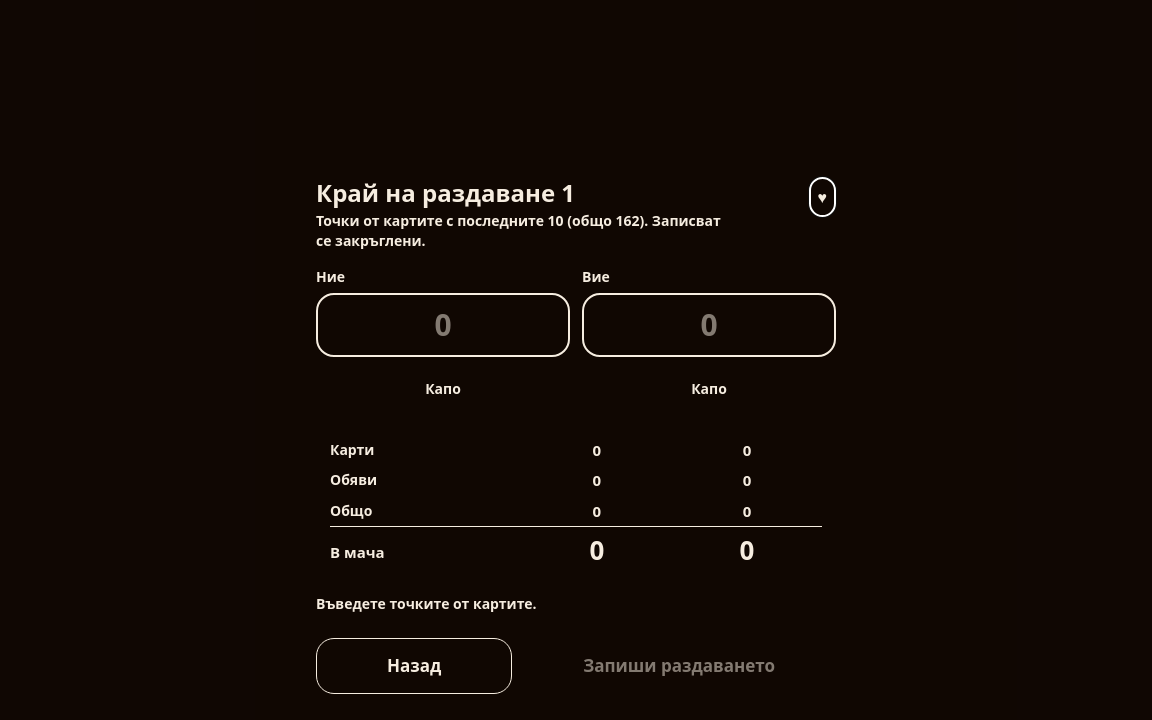
Test case: DealEndSheet, step 2 › shows the calculation and the made verdict
The image size is (1152, 720).
Type "100" into the field labelled "Ние".
click(443, 324); type("100")  # box [316,292,570,356]
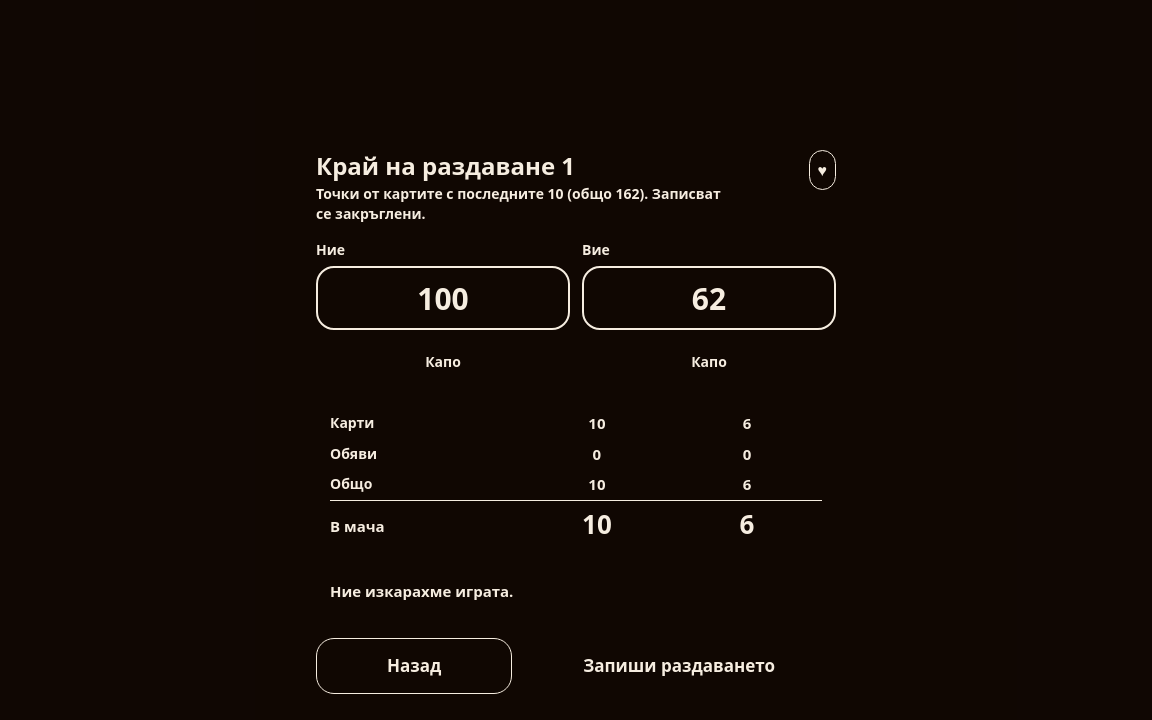
Check: the text "Ние изкарахме играта." is shown, box [330,580,513,600]
